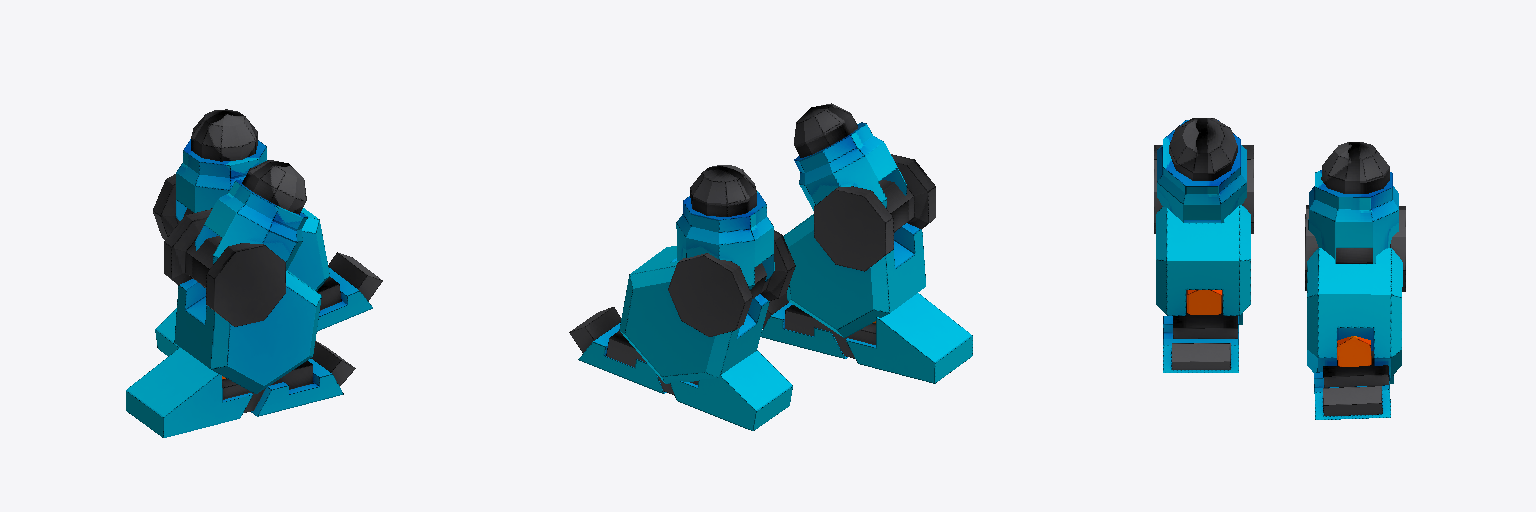
3 views of the same model, side by side, from view 1: azimuth 30°, elevation 25°; view 2: azimuth 150°, elevation 25°; view 3: azimuth 270°, elevation 25° (orthographic).
Visible parts, largest first — view 1: Object013, Object014, Object012, Object009, Object011, Object010; view 2: Object013, Object010, Object014, Object011, Object009, Object012; view 3: Object010, Object013, Object009, Object012, Object014, Object011.
Part boxes in pixels (x1,y1,x2,y2): Object013: (164,209,321,393); Object014: (126,341,355,437); Object012: (195,160,307,270); Object009: (176,109,266,220); Object011: (155,252,382,356); Object010: (153,174,329,291); Object013: (783,154,935,337); Object010: (619,230,795,383); Object014: (760,293,972,383); Object011: (569,307,792,430); Object009: (676,165,774,289); Object012: (794,103,906,210); Object010: (1305,205,1405,377); Object013: (1154,145,1253,315); Object009: (1308,142,1398,263); Object012: (1157,118,1246,222); Object014: (1163,290,1242,372); Object011: (1314,336,1393,419).
Bounding box in the file's own units: 129 × 104 × 94.65.
1 materials, 1 textured.